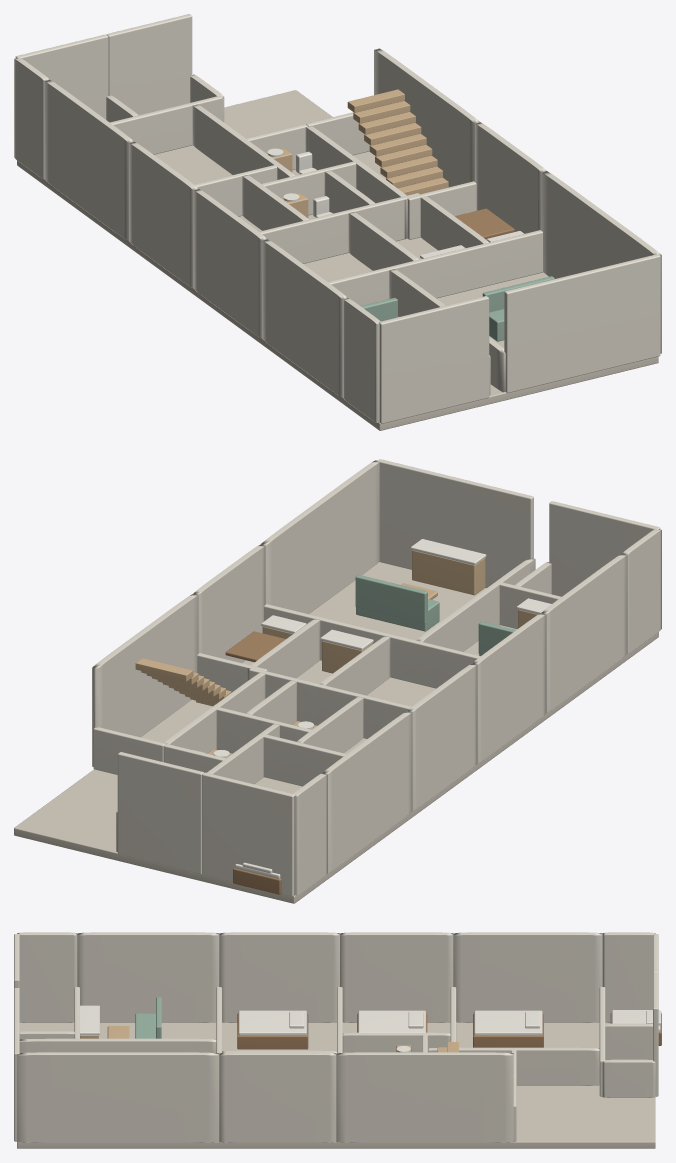
Rendered from floor-1.glb.
3 views of the same model, one above another, from view 1: azimuth 30°, elevation 25°; view 2: azimuth 150°, elevation 25°; view 3: azimuth 270°, elevation 25° (orthographic). The views are drawn at different scales.
Visible parts, largest first — view 1: F1_Wall_027, F1_Slab, F1_Wall_001, F1_Wall_011, F1_Wall_002, F1_Wall_005, F1_Wall_020, F1_Wall_047, F1_Wall_008, F1_Wall_049, F1_Wall_048, F1_Wall_017 (+40 smaller); view 2: F1_Slab, F1_Wall_027, F1_Wall_047, F1_Wall_011, F1_Wall_049, F1_Wall_020, F1_Wall_002, F1_Wall_017, F1_Wall_005, F1_Wall_008, F1_Wall_001, F1_Wall_048 (+37 smaller); view 3: F1_Wall_047, F1_Slab, F1_Wall_049, F1_Wall_011, F1_Wall_002, F1_Wall_048, F1_Wall_005, F1_Wall_008, F1_Wall_000, F1_Wall_014, F1_Wall_032, F1_Wall_026 (+17 smaller).
Part boxes in pixels (<box>): F1_Wall_027: <box>504,254,660,393</box>; F1_Slab: <box>17,90,658,430</box>; F1_Wall_001: <box>379,296,489,423</box>; F1_Wall_011: <box>44,79,133,241</box>; F1_Wall_002: <box>262,239,347,397</box>; F1_Wall_005: <box>193,189,266,338</box>; F1_Wall_020: <box>106,14,192,115</box>; F1_Wall_047: <box>541,171,661,353</box>; F1_Wall_008: <box>129,141,198,288</box>; F1_Wall_049: <box>374,48,479,187</box>; F1_Wall_048: <box>475,122,546,233</box>; F1_Wall_017: <box>15,34,108,119</box>; F1_Slab: <box>14,562,658,903</box>; F1_Wall_027: <box>377,459,533,588</box>; F1_Wall_047: <box>260,460,379,614</box>; F1_Wall_011: <box>322,711,412,873</box>; F1_Wall_049: <box>92,593,198,766</box>; F1_Wall_020: <box>117,752,203,874</box>; F1_Wall_002: <box>541,554,627,712</box>; F1_Wall_017: <box>202,772,295,896</box>; F1_Wall_005: <box>472,613,546,763</box>; F1_Wall_008: <box>407,663,477,810</box>; F1_Wall_001: <box>549,501,660,596</box>; F1_Wall_048: <box>193,544,265,662</box>; F1_Wall_047: <box>17,1052,219,1142</box>; F1_Slab: <box>17,1022,655,1148</box>; F1_Wall_049: <box>336,1052,513,1142</box>; F1_Wall_011: <box>453,932,602,1022</box>; F1_Wall_002: <box>77,932,219,1022</box>; F1_Wall_048: <box>219,1052,336,1142</box>; F1_Wall_005: <box>219,932,339,1022</box>; F1_Wall_008: <box>340,932,453,1022</box>; F1_Wall_000: <box>17,932,77,1022</box>; F1_Wall_014: <box>602,932,655,1022</box>; F1_Wall_032: <box>468,1047,599,1085</box>; F1_Wall_026: <box>19,1038,216,1052</box>.
Bounding box in the file's own units: 8.16 × 2.97 × 18.25.
